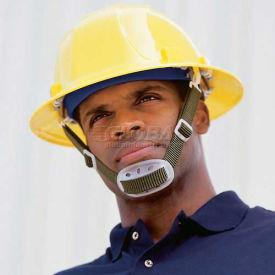helmet: (30, 9, 243, 145)
